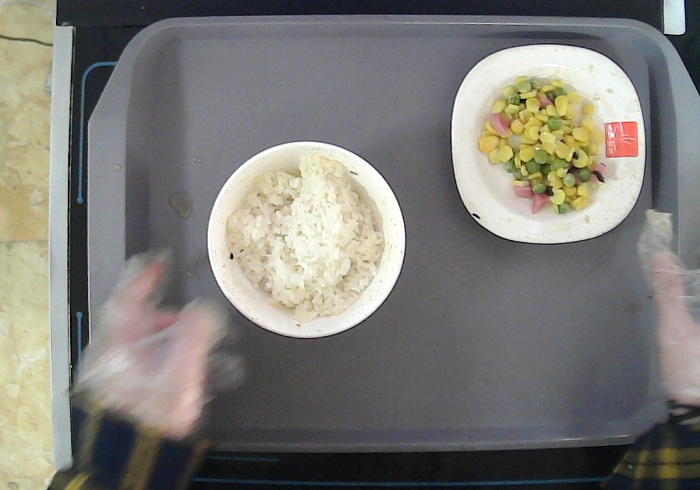SHKJ-Bai_Se_Si_Fang_Cai_Die: (448, 43, 649, 246)
SHKJ-Fan_Wan: (203, 138, 405, 339)
